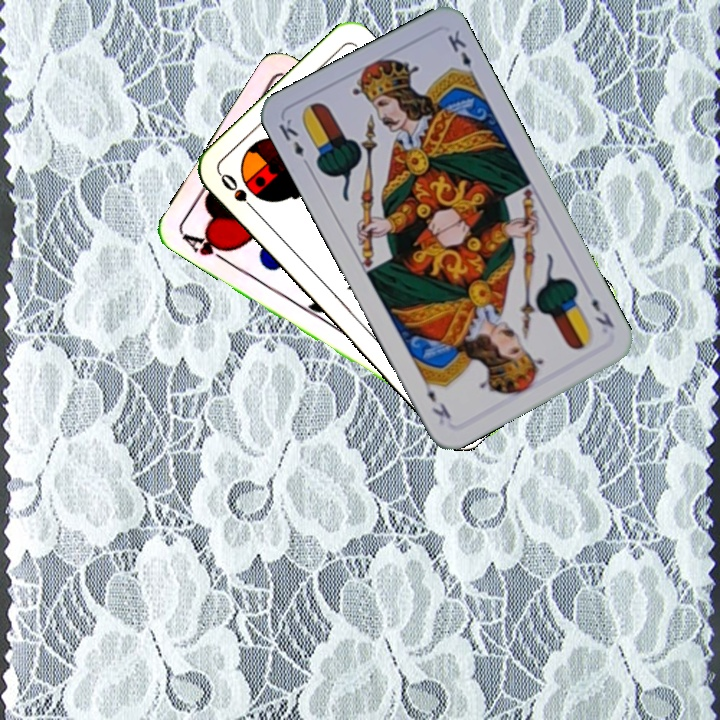EK: (274, 114, 313, 171), (587, 294, 617, 331)
HA: (177, 229, 234, 266)
SO: (216, 169, 262, 217)
